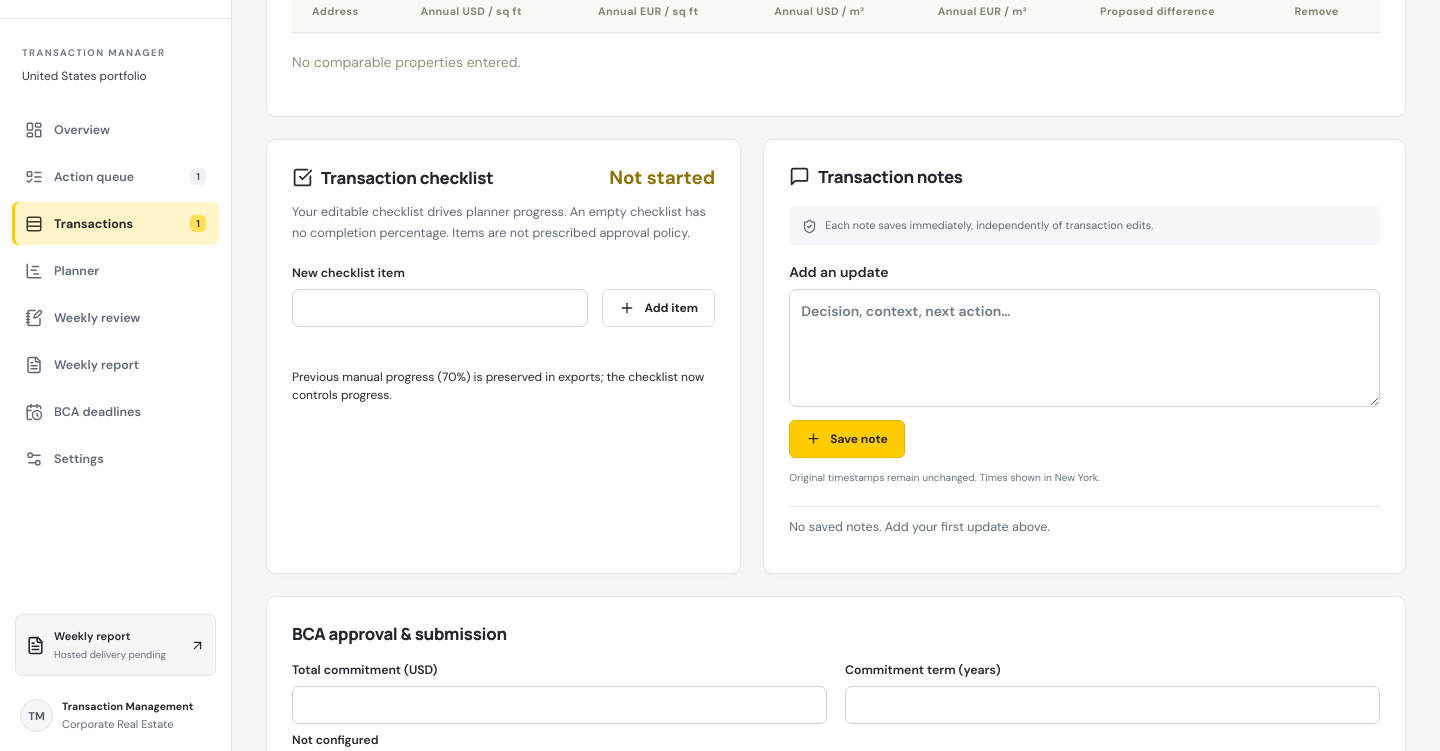
Scenario: blocks a stale-tab note save and leaves the draft available
This screenshot has width=1440, height=751.
(page scrolled)
Type "Keep this note" into the text box named "Note entry text" at (1085, 348), box [789,290,1380,407]
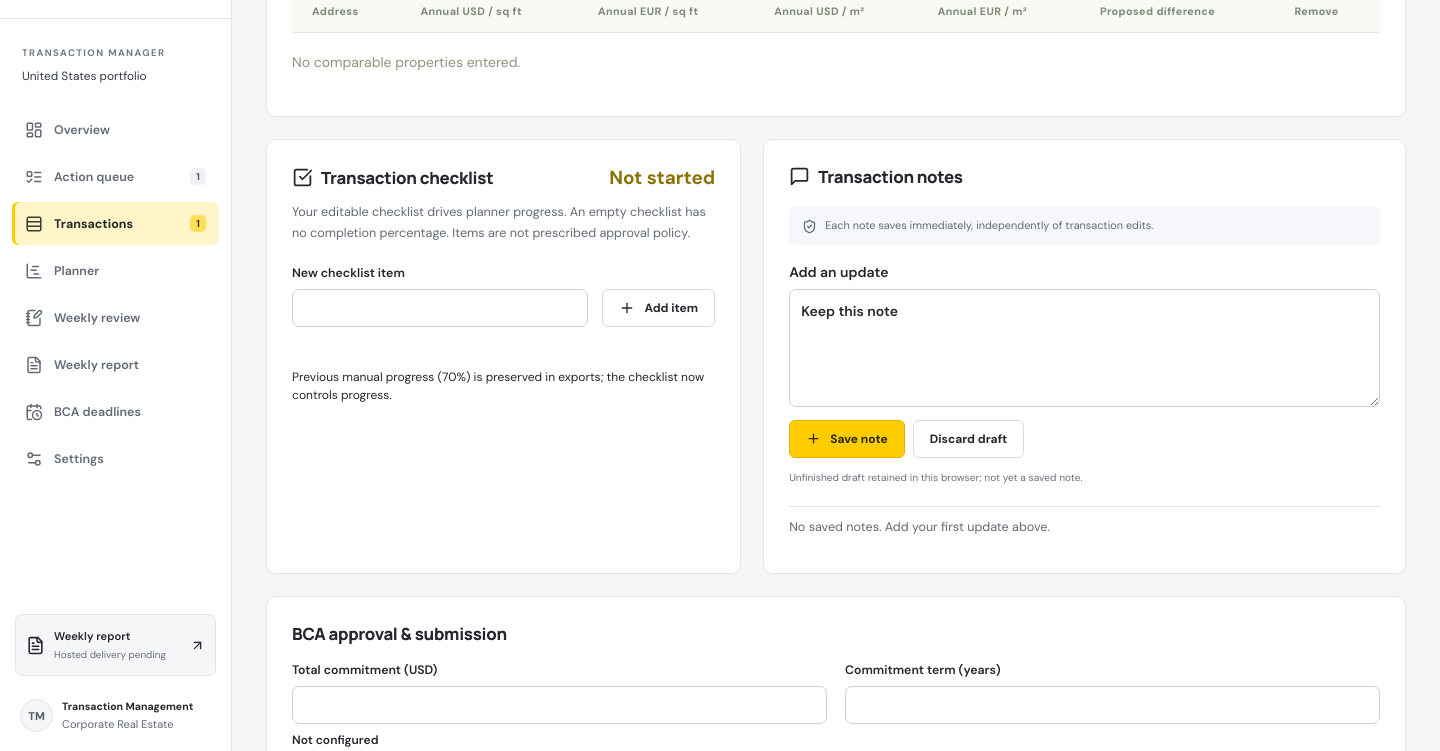
Click the button "Save note" at (847, 439), box [789,420,905,458]
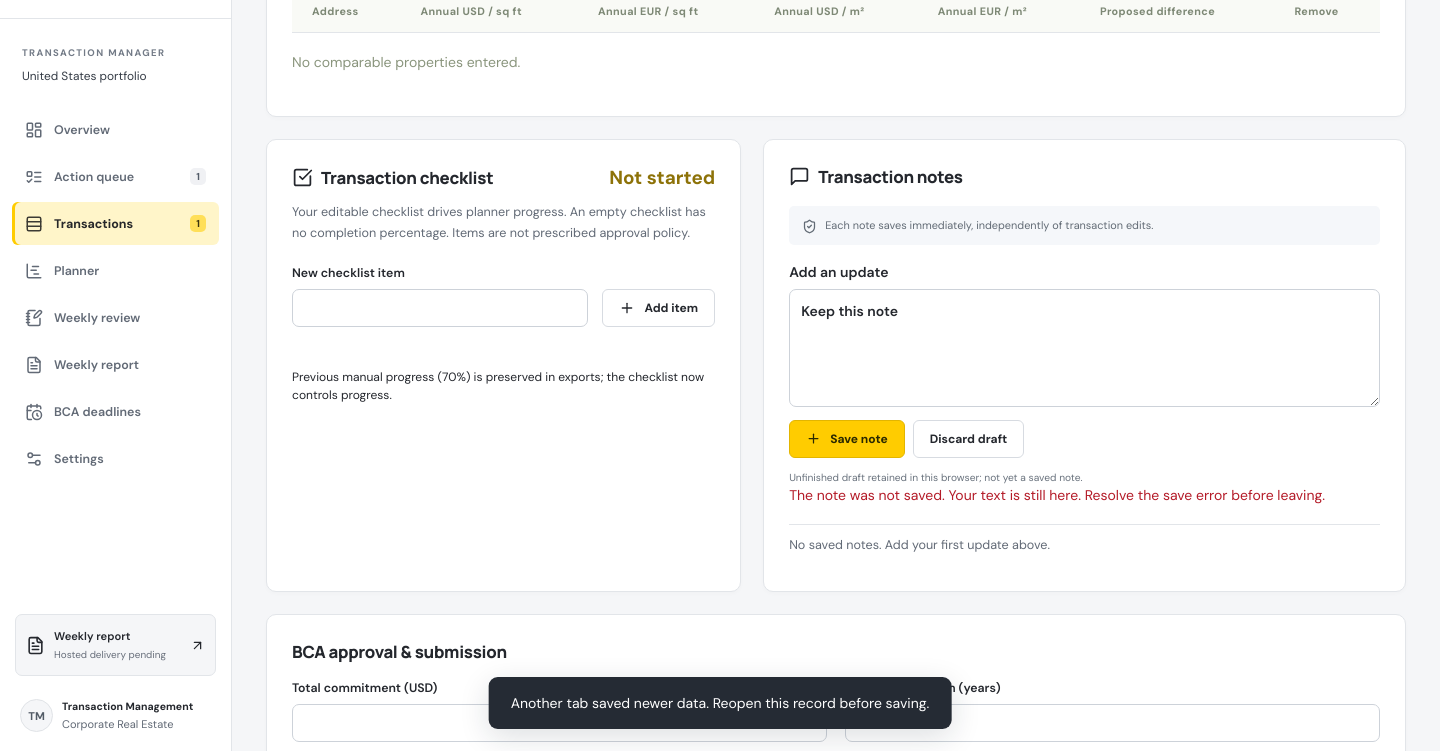
Expected: the 1st message shows "not saved", [789,486,1325,504]
